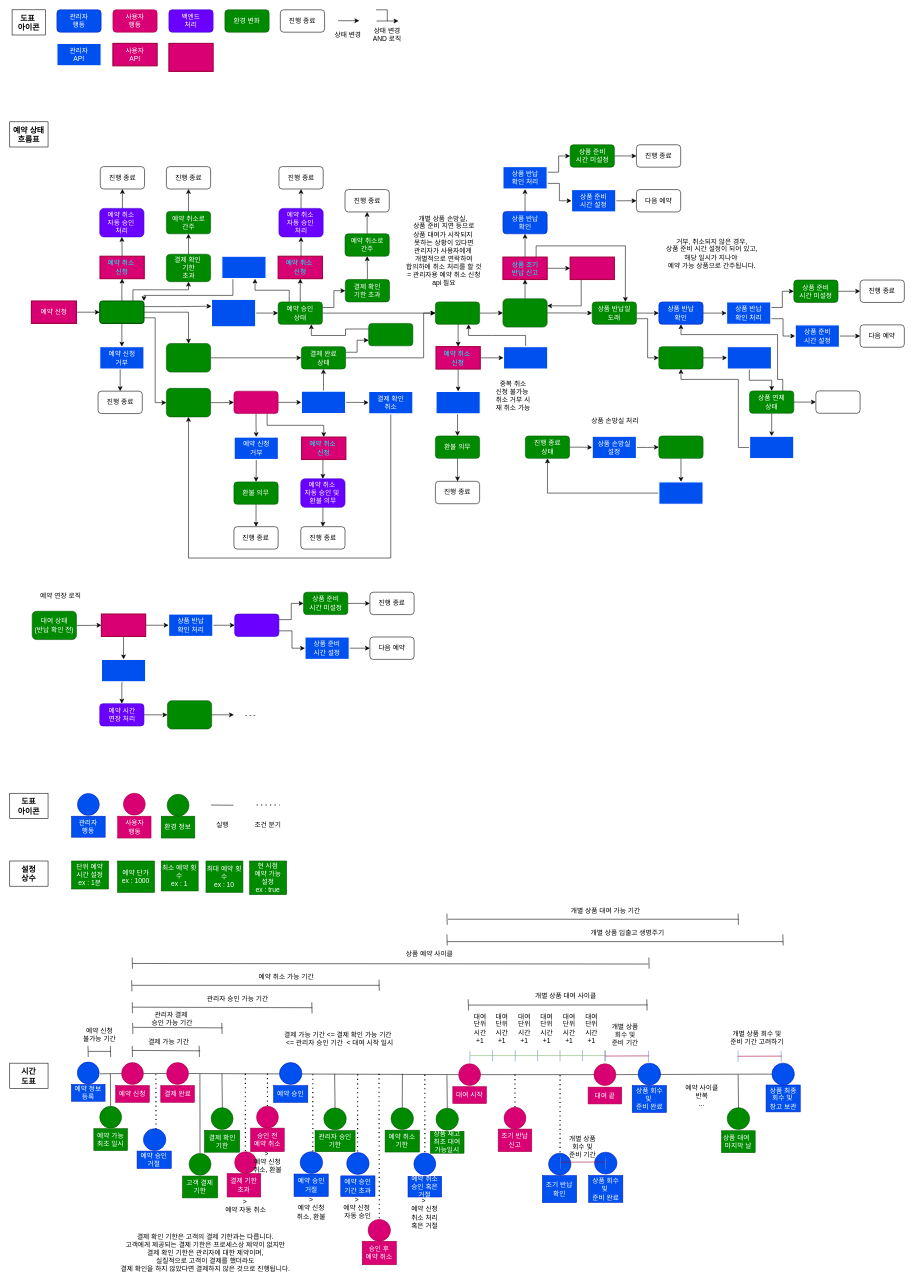
This 914x1285 diagram has some shape labels left out. Here are the shapes that lost their labels. From the top down, the box of each, then its label:
(168, 43, 213, 72): 사용자 + 관리자 API
(221, 255, 266, 279): 예약 신청 승인 취소
(569, 256, 615, 280): 상품 조기 반납 취소
(99, 300, 144, 324): 예약 신청 상태
(211, 298, 256, 327): 관리자 예약 신청 승인
(435, 301, 480, 324): 예약 완료 상태
(502, 298, 547, 327): 상품 대여일 도래 = 대여 상태
(368, 323, 413, 346): 예약 승인 기한 초과
(166, 343, 211, 372): 예약 금액 설정 == 0
(503, 346, 548, 369): 예약 취소 거부
(658, 346, 703, 369): 상품 반납 미확인 상태
(726, 346, 772, 369): 상품 연체 상태로 설정
(166, 388, 211, 417): 예약 금액 설정 > 0
(233, 391, 278, 414): 사용자 결제
(300, 390, 346, 414): 관리자 결제 확인
(435, 391, 481, 414): 예약 취소 승인
(815, 390, 860, 413): 연체 상태 지속
(658, 435, 703, 458): 상품 손망실 상태
(749, 435, 794, 459): 상품 연체 취소
(658, 481, 703, 505): 상품 손망실 취소
(101, 613, 146, 637): 예약 연장 신청
(234, 613, 279, 636): 예약 연장 취소 처리
(101, 659, 146, 682): 예약 연장 승인
(167, 700, 212, 729): 대여 상태 (반납 기간 연장)
